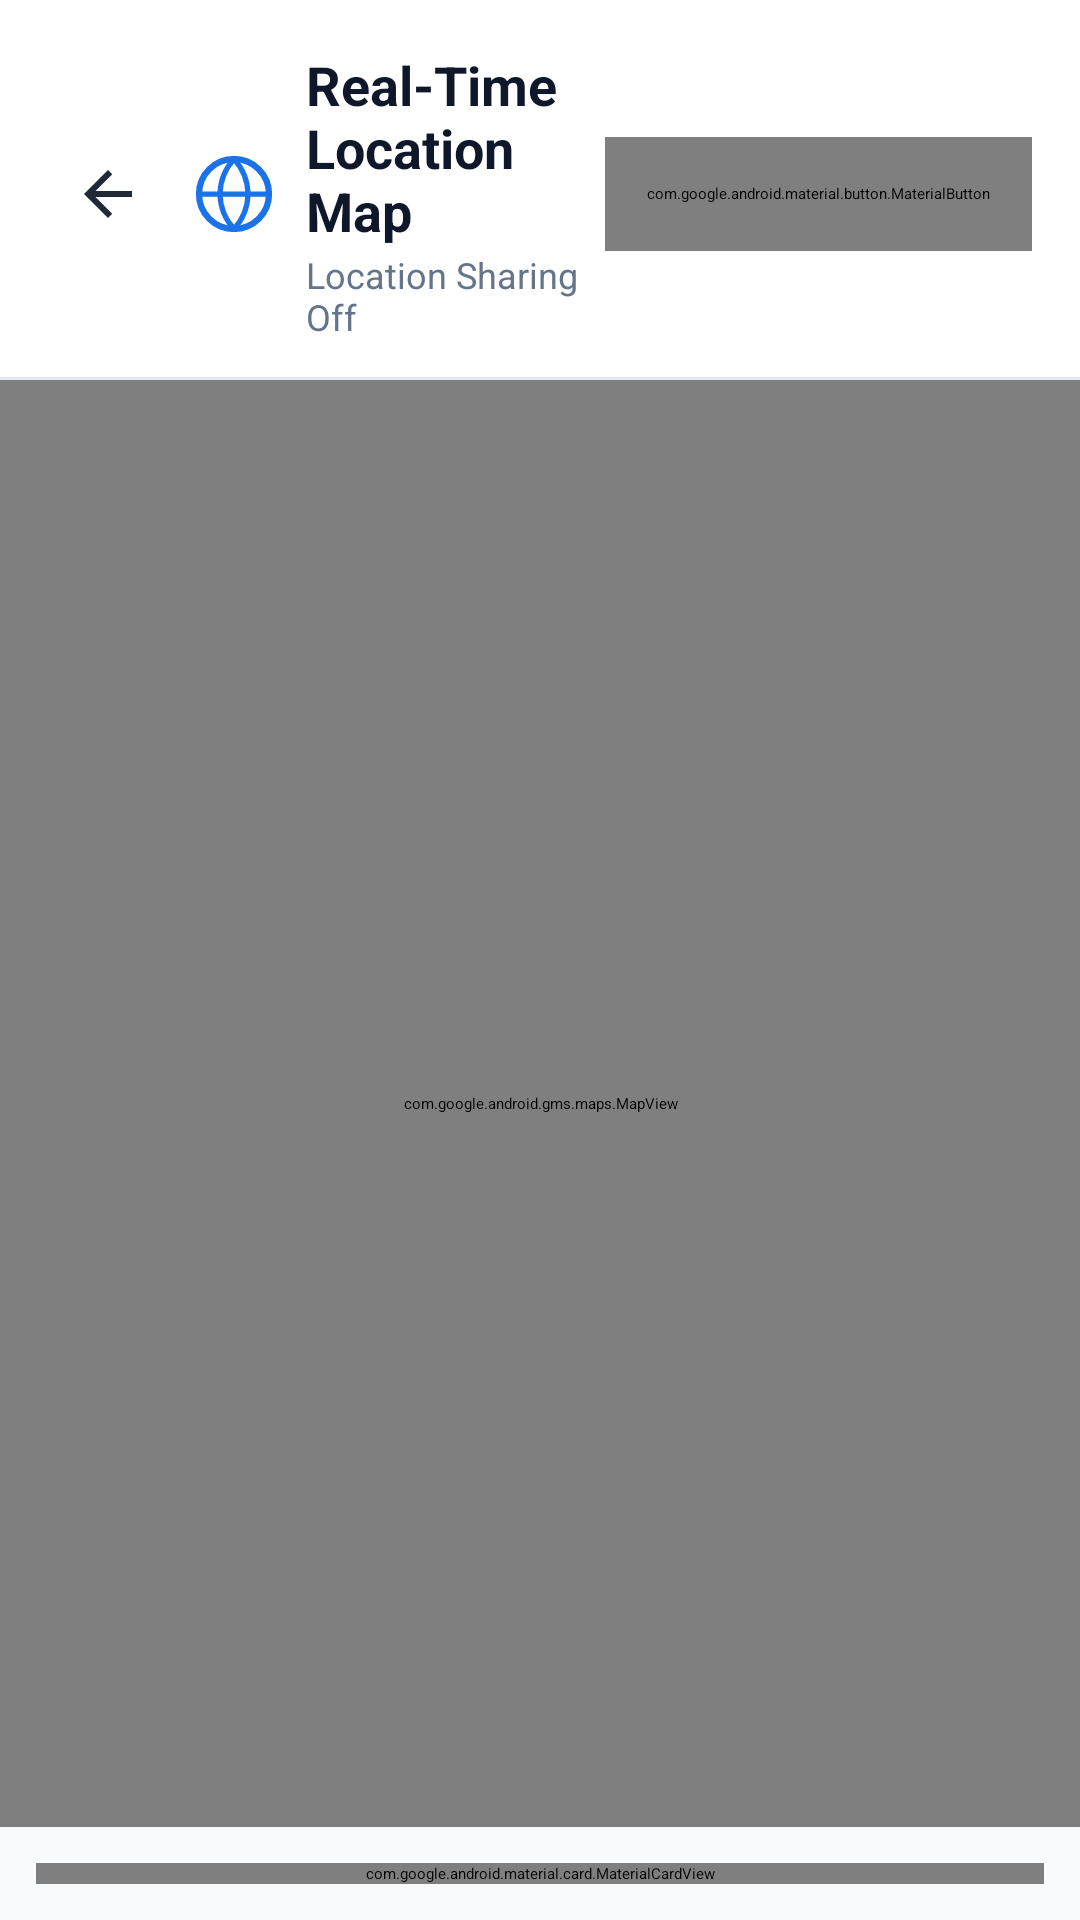

Icons on this 1080 × 1920 Android screen, each with its box as (x1,y1,x2,y2):
Back Navigation: (84,170,132,218)
globe: (196,156,272,232)
